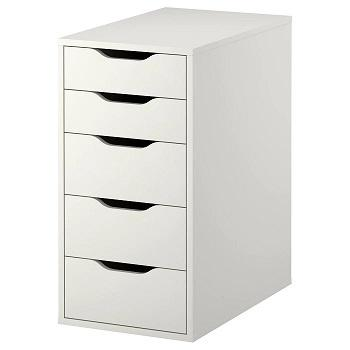cabinet_door: (67, 263, 190, 331), (67, 137, 189, 203), (67, 200, 189, 264), (67, 52, 189, 97), (66, 91, 189, 135)
handle: (98, 92, 154, 110), (97, 260, 153, 278), (96, 197, 152, 214), (96, 137, 153, 153), (98, 50, 154, 65)
